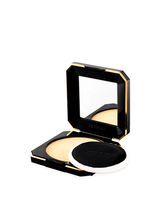other: (29, 60, 136, 183)
